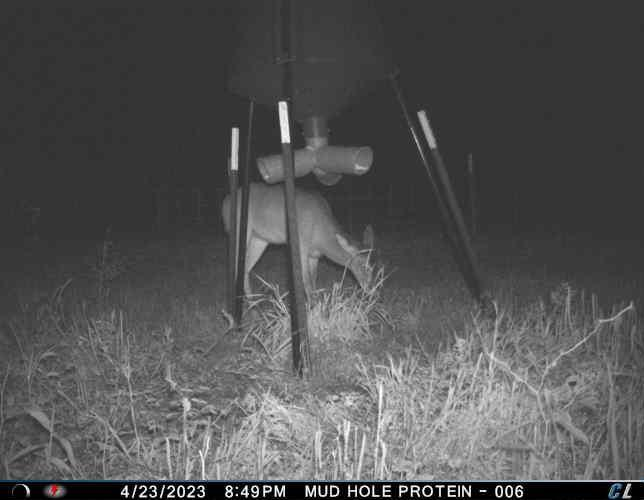Deer: (218, 177, 378, 329)
